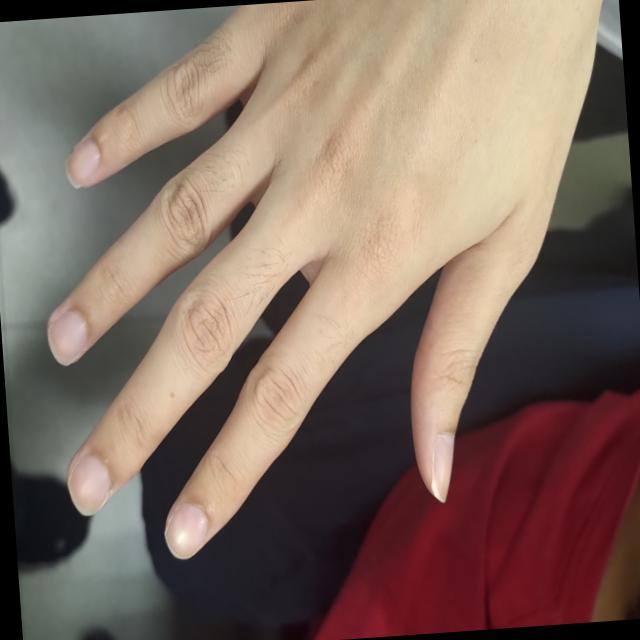Nail: (67, 454, 109, 515), (163, 501, 207, 559), (46, 310, 87, 365), (429, 433, 454, 501), (66, 138, 99, 187)
